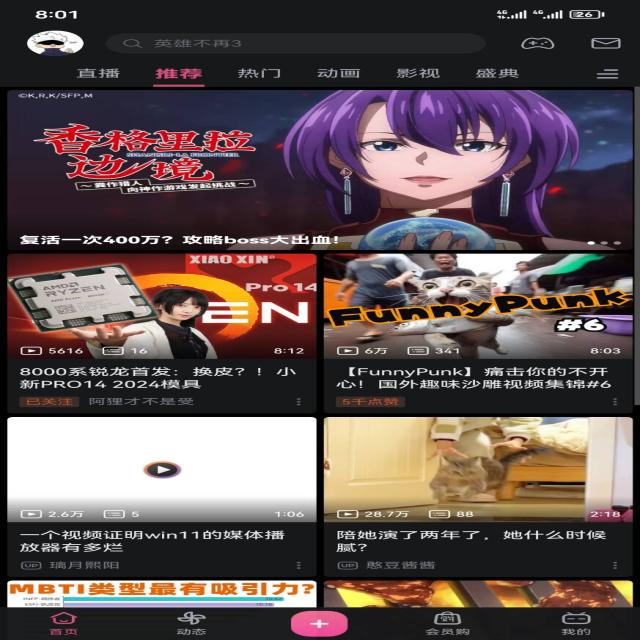Icon: (418, 610, 497, 639), (40, 608, 96, 640), (287, 613, 357, 637), (548, 610, 606, 637), (162, 607, 215, 635)
SearchBar: (101, 29, 496, 60)
